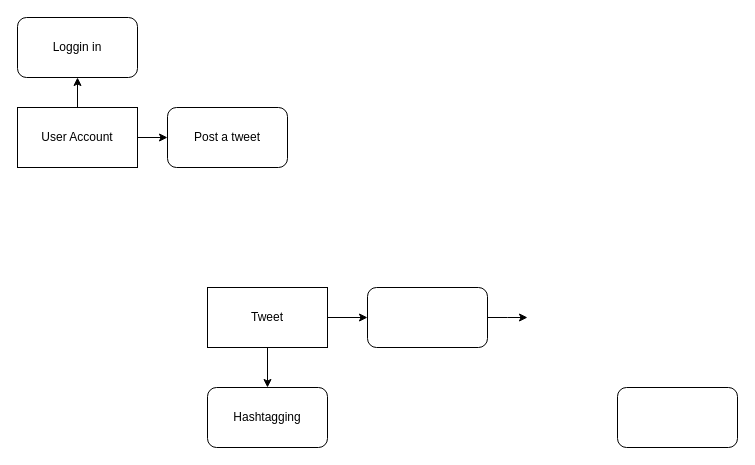
The diagram is 755 pixels wide and 465 high, and some of its shapes have lost their labels. Each missing label, with the centre of its shape:
"Like/dislike Retweet Comment" belongs at [427,317].
"Trending" belongs at [677,417].
